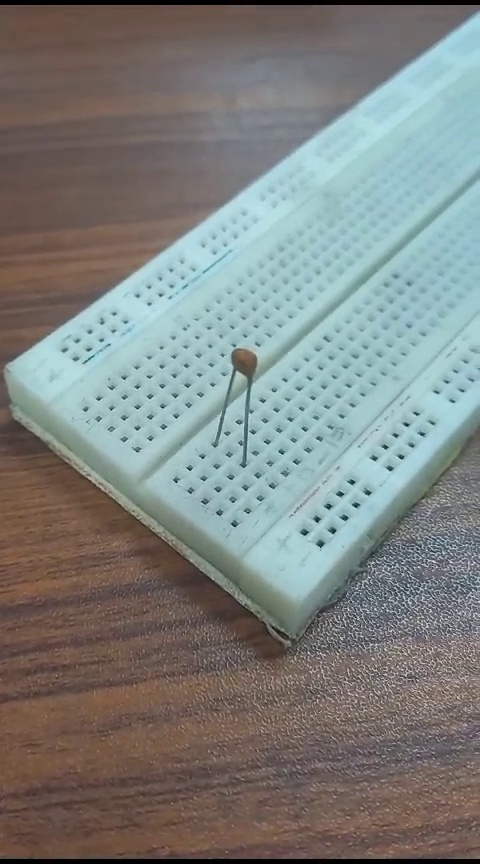ceramic capacitor: (218, 343, 279, 456)
